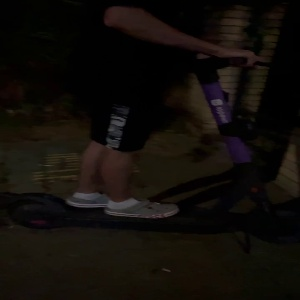human on a scooter: (1, 1, 300, 253)
